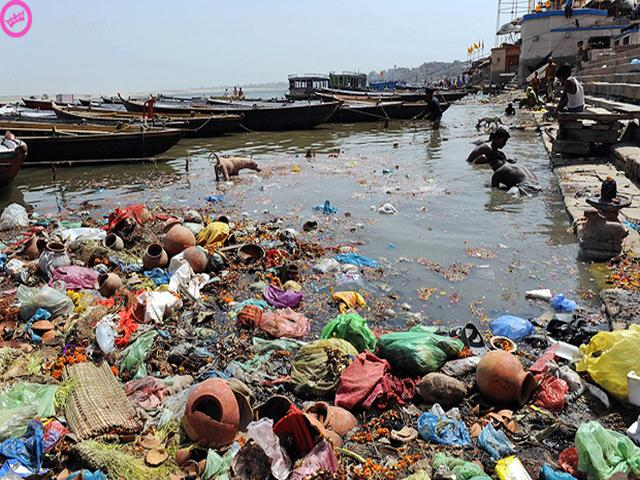garbage: (16, 234, 292, 461), (309, 326, 615, 466)
